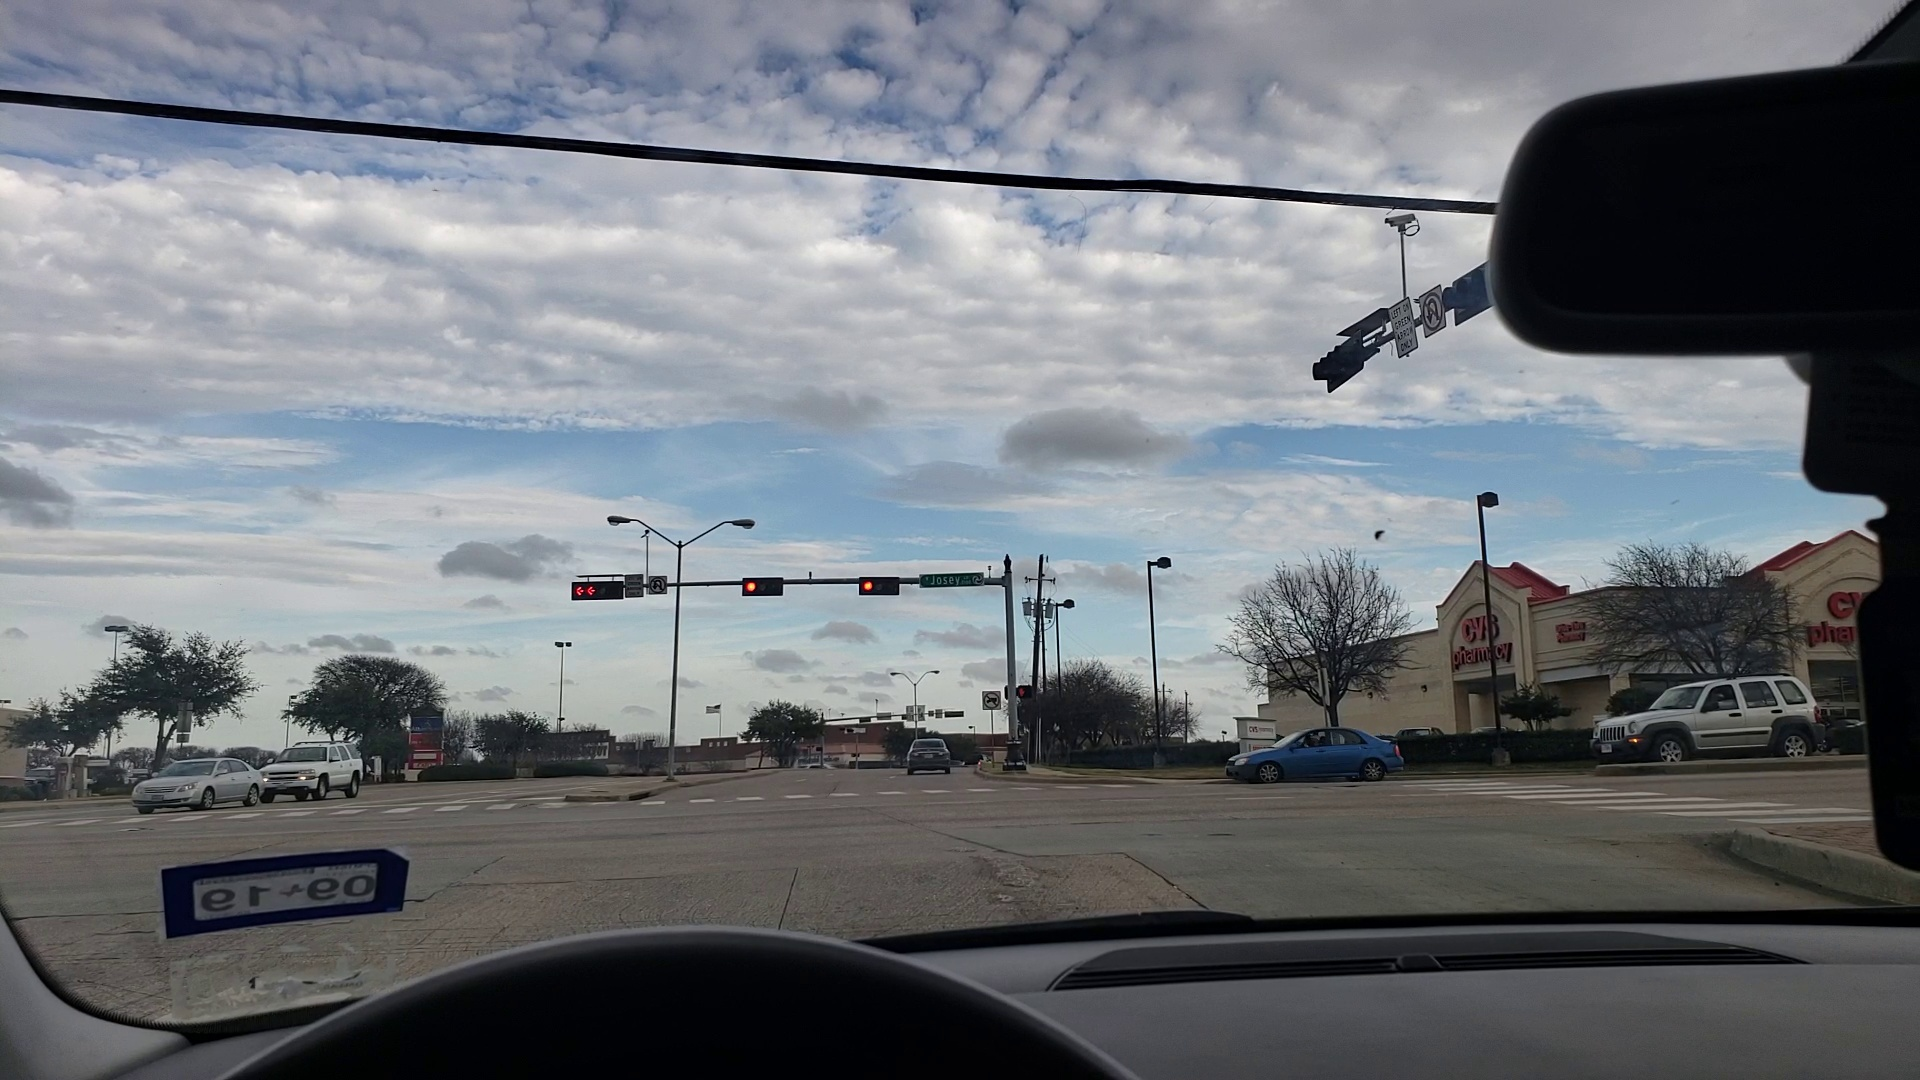car: (1581, 674, 1840, 774), (1225, 723, 1416, 777), (266, 735, 371, 800), (128, 760, 266, 808), (905, 735, 965, 785)
traffic light: (574, 582, 632, 603), (856, 580, 905, 596), (742, 578, 790, 593)
